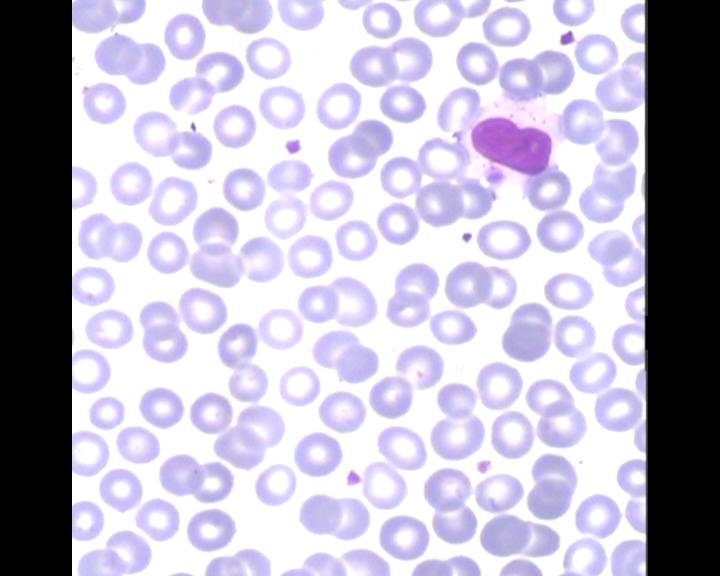mono: (453, 85, 565, 188)
